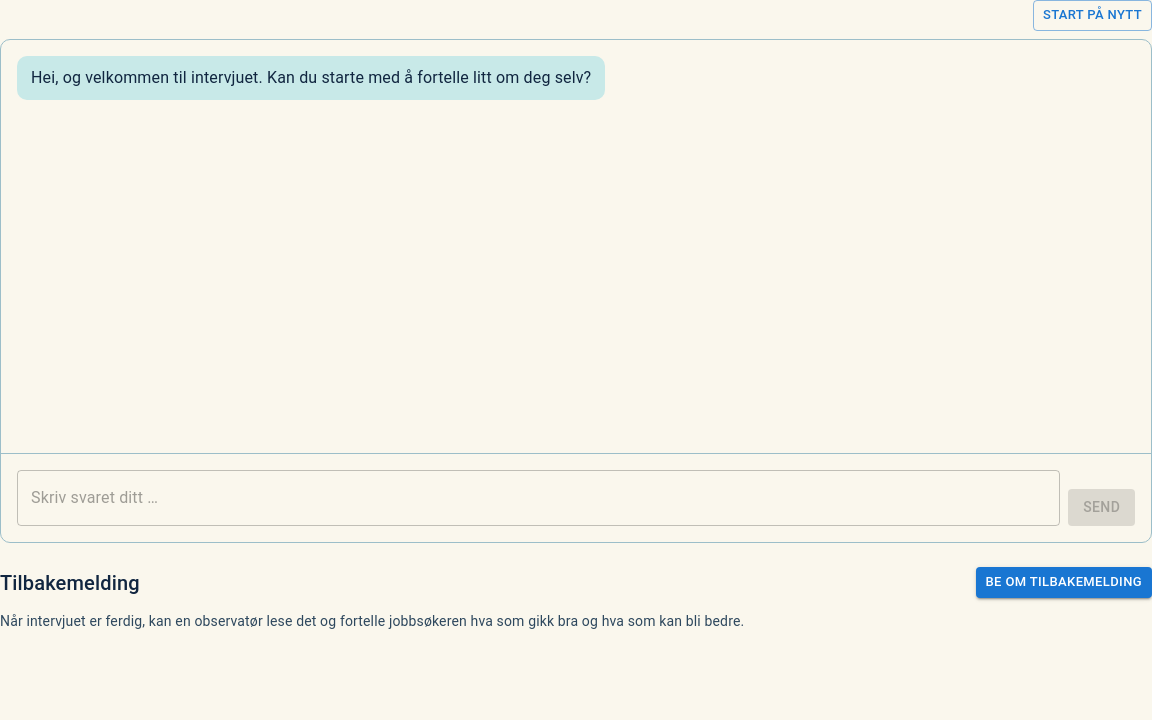
Test: TestChat › goes back to the greeting when starting over is confirmed
Type "Jeg har jobbet i butikk i fem år." into the text box named "Melding" at (539, 498), box [31, 486, 1046, 509]
Then press Enter
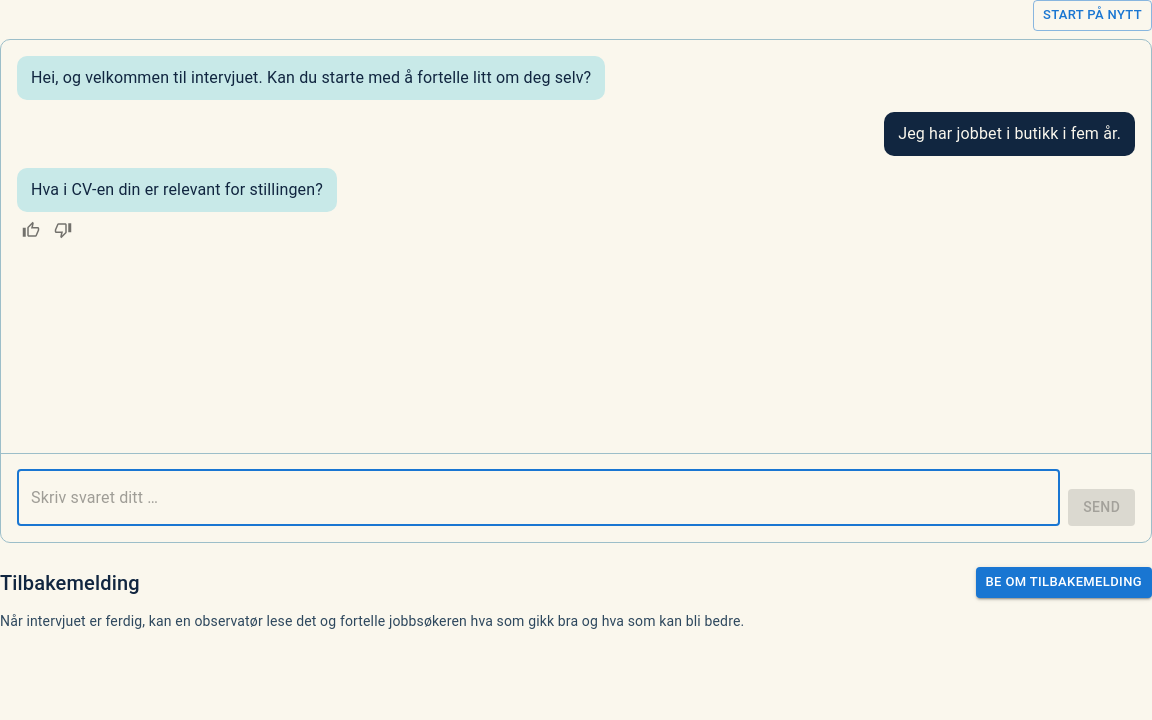
Expected: the list item "Hva i CV-en din er relevant for stillingen?" is shown, [17, 168, 337, 212]
Click the button "Start på nytt" at (1092, 15), box [1033, 0, 1151, 31]
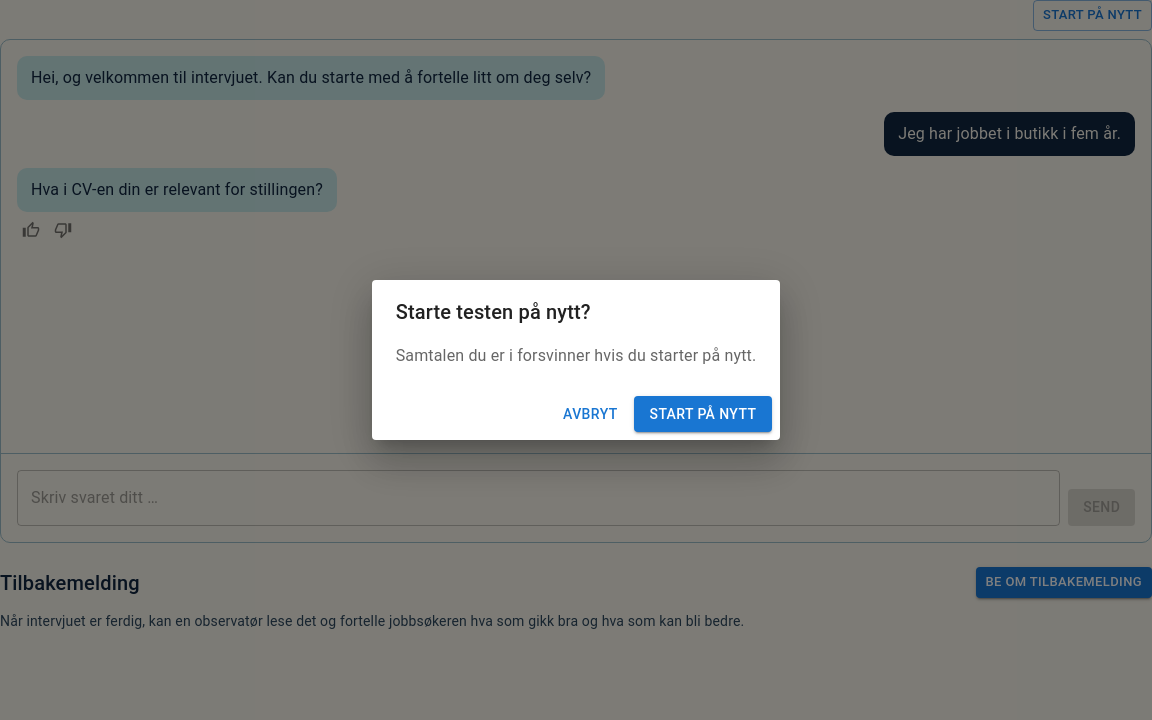
Click the button "Start på nytt" at (703, 414), box [634, 396, 772, 432]
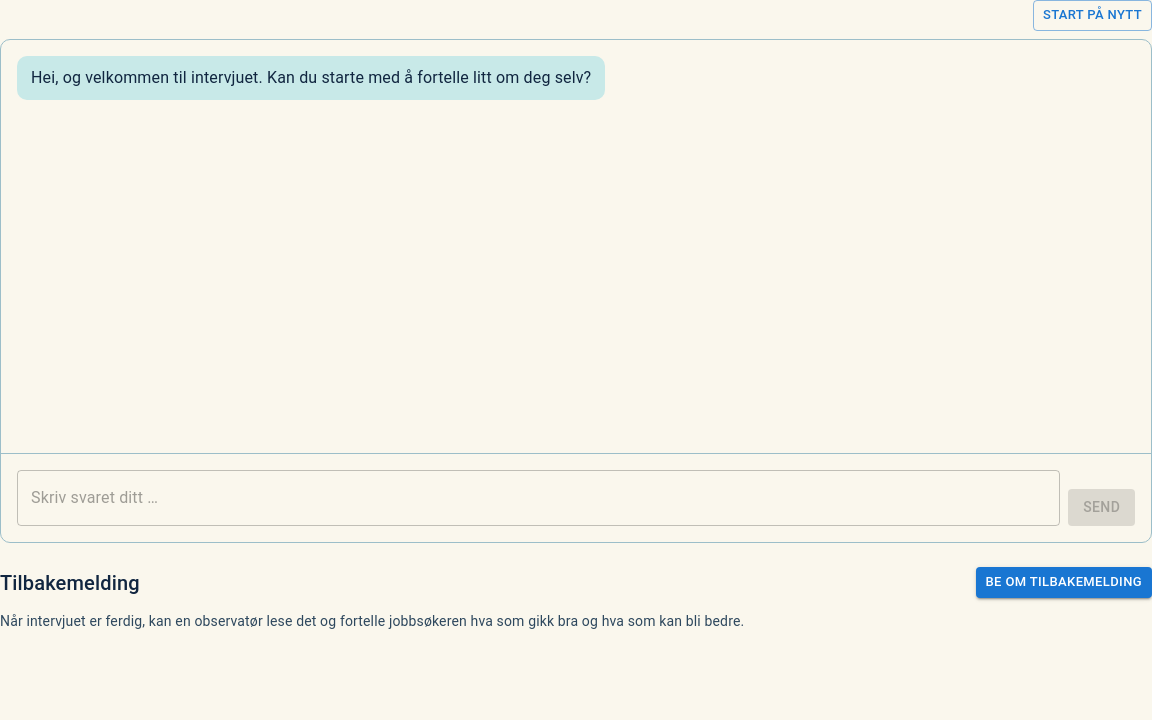
Expected: the dialog is gone
Expected: the list item "Jeg har jobbet i butikk i fem år." is gone
Expected: the list item "Hva i CV-en din er relevant for stillingen?" is gone
